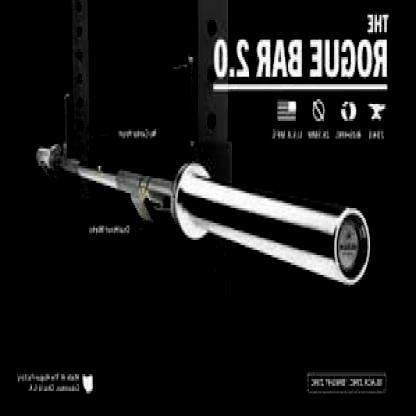Barbell: (325, 203, 373, 295)
